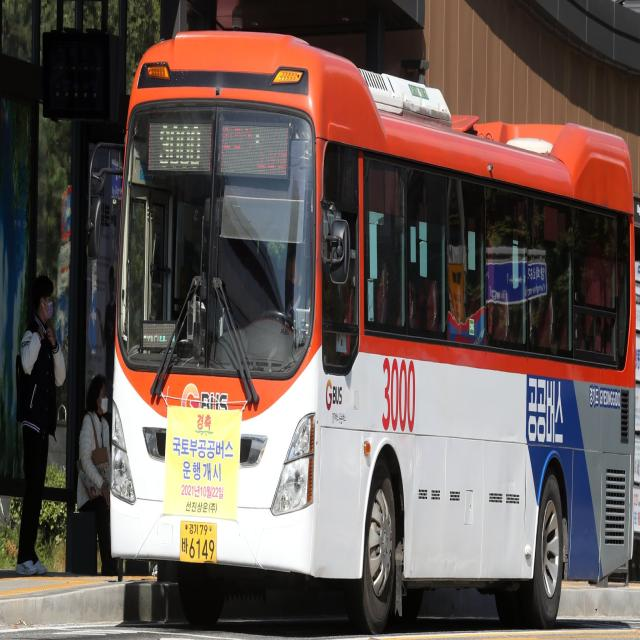bus-number: (159, 124, 201, 171)
